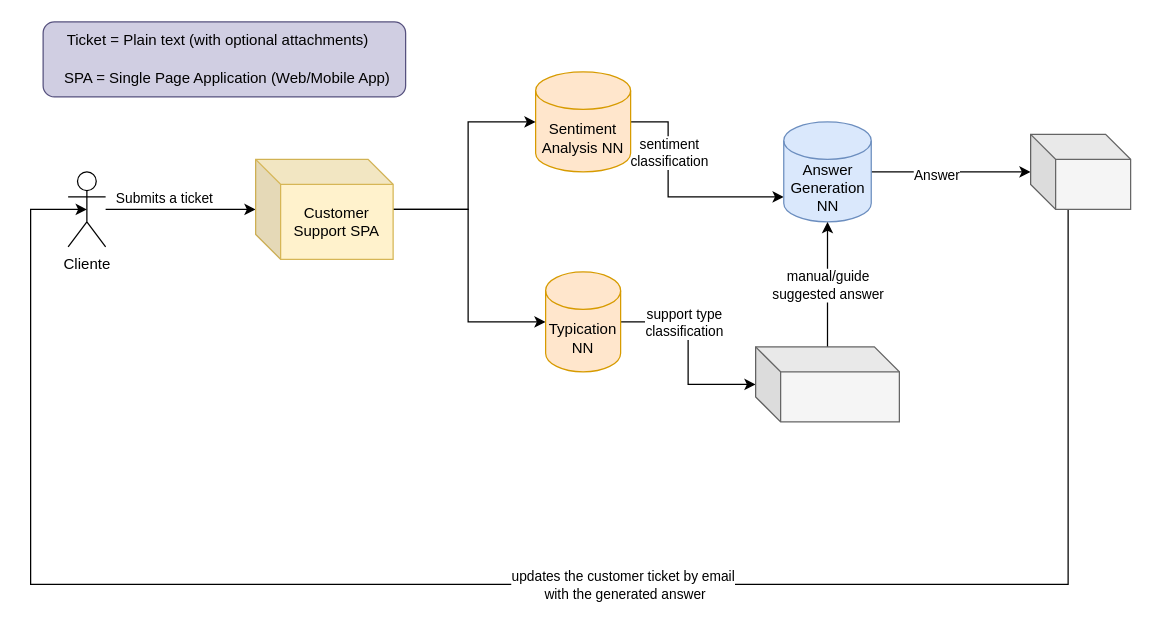
The diagram is 1153 pixels wide and 623 high, and some of its shapes have lost their labels. The shapes that lost their labels are listed below. From the top down, each one's centre as x and y in pixels, then its label:
At (1080,171): "SMTP Service".
At (826,384): "Support Manual/Guide".
